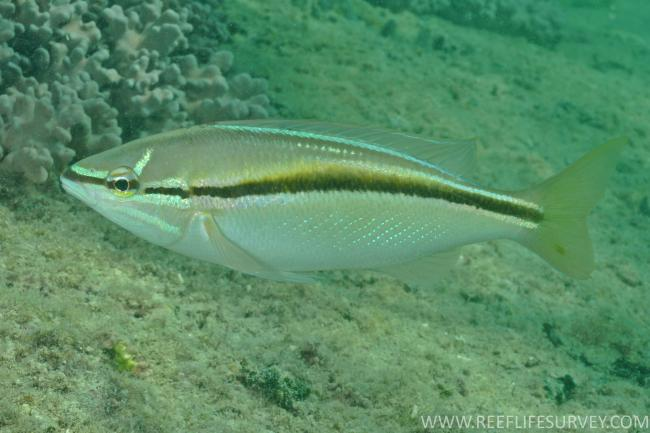fish: (59, 118, 621, 279)
